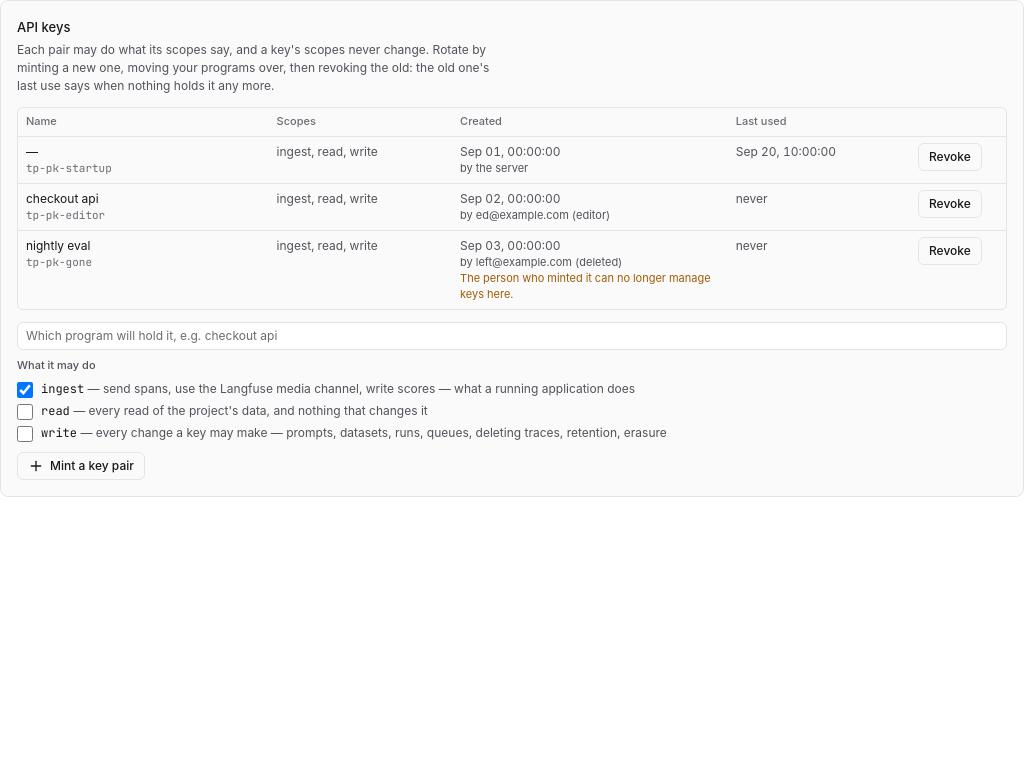
the keys card › sends the scopes that are checked, in the server order, and none is not a key
Click the checkbox labelled "ingest": coordinates (25, 390) [17,382,33,398]
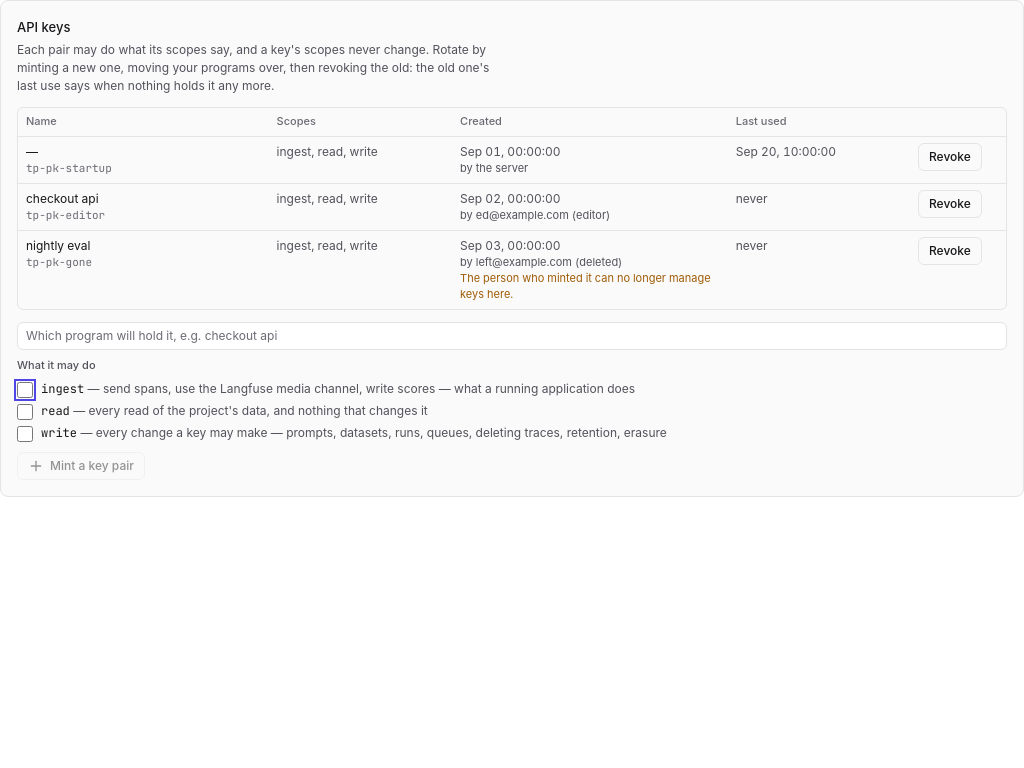
Check: the button "Mint a key pair" is disabled, box [17,452,145,480]
Click the checkbox labelled "write": coordinates (25, 434) [17,426,33,442]
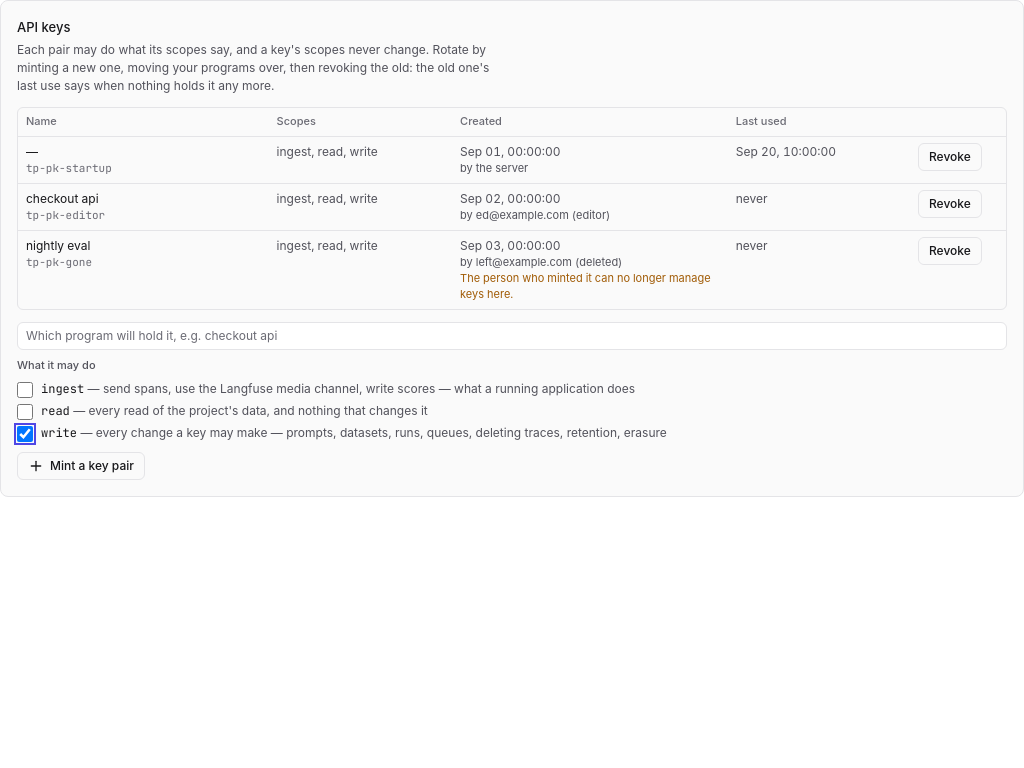
Click the checkbox labelled "read": coordinates (25, 412) [17,404,33,420]
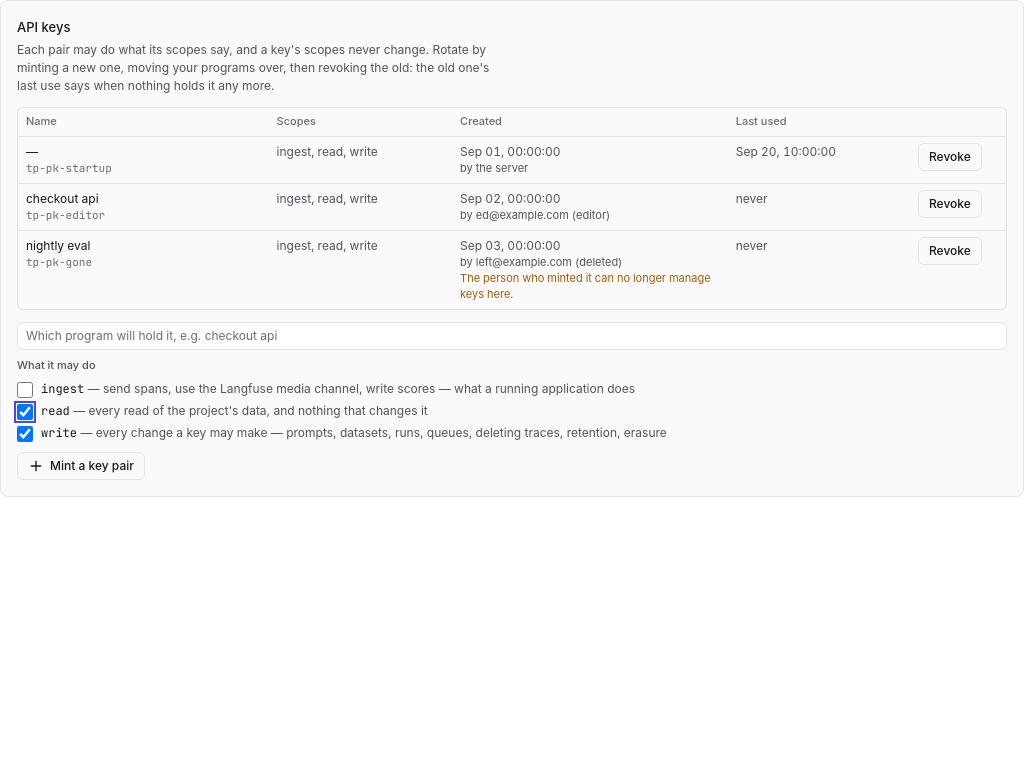
Click the button "Mint a key pair": coordinates (81, 466) [17,452,145,480]
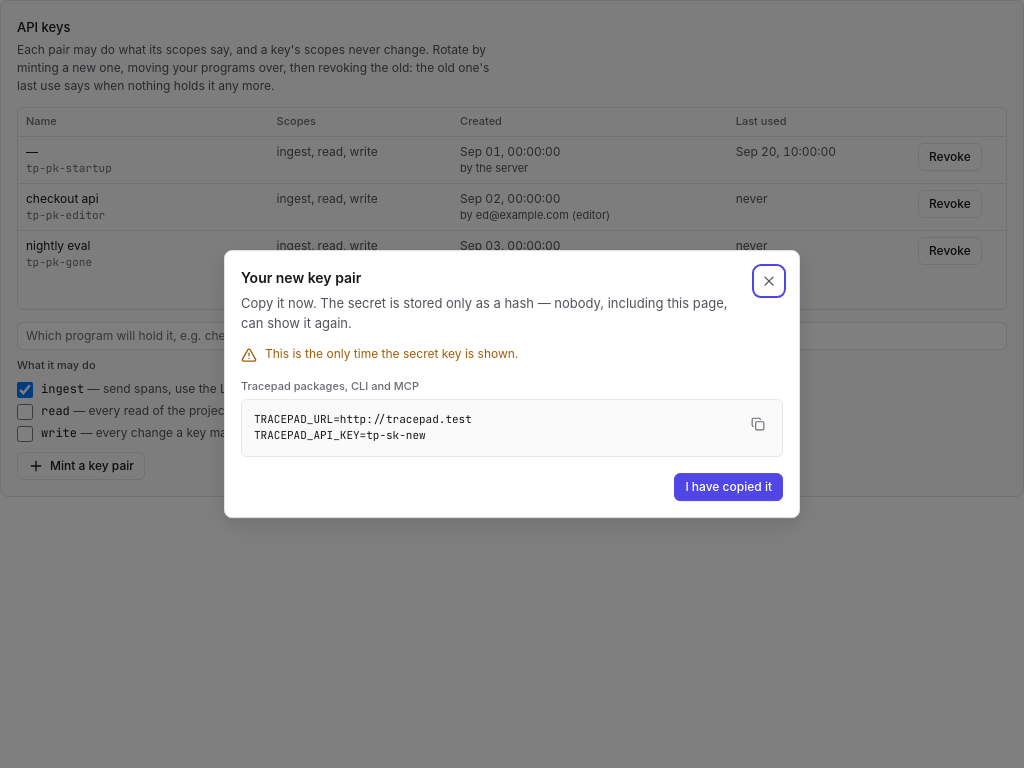
Check: the text "TRACEPAD_URL=http://tracepad.test TRACEPAD_API_KEY=tp-sk-new" is shown, box [254,412,472,442]
